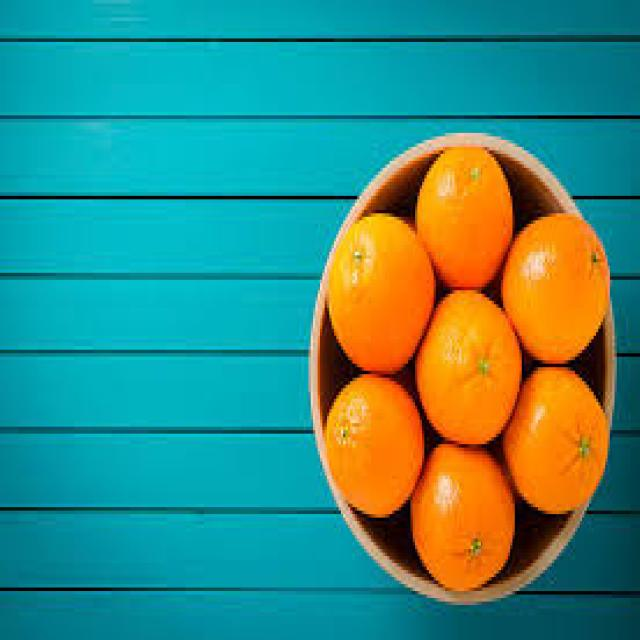orange: (327, 213, 436, 375), (500, 210, 610, 364), (416, 289, 522, 445), (409, 442, 516, 590), (503, 364, 608, 514), (323, 372, 426, 517), (415, 143, 515, 289)
